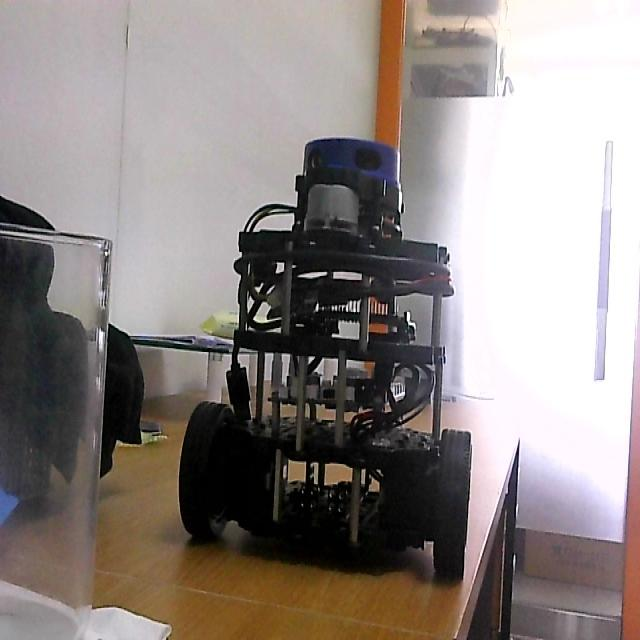turtle: (176, 134, 474, 586)
